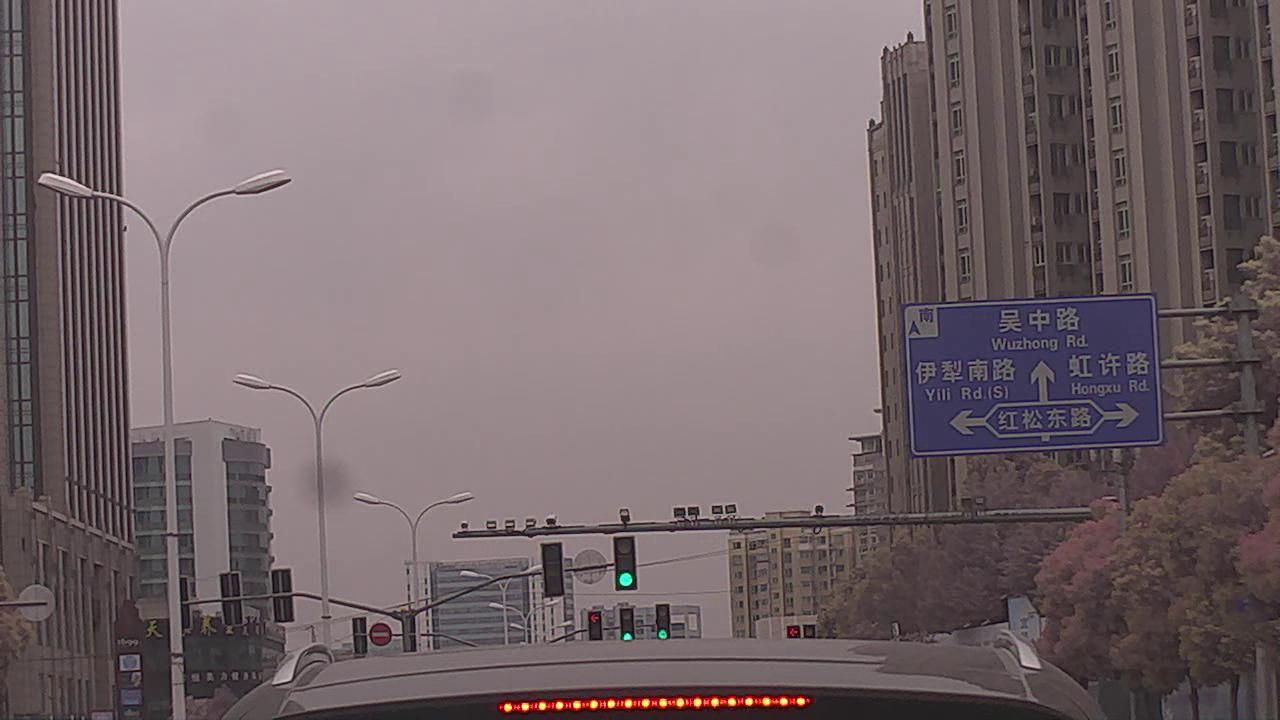traffic_light: (612, 538, 638, 592), (544, 544, 564, 598), (618, 607, 636, 646), (655, 603, 672, 643), (588, 609, 603, 645), (787, 625, 799, 646)
